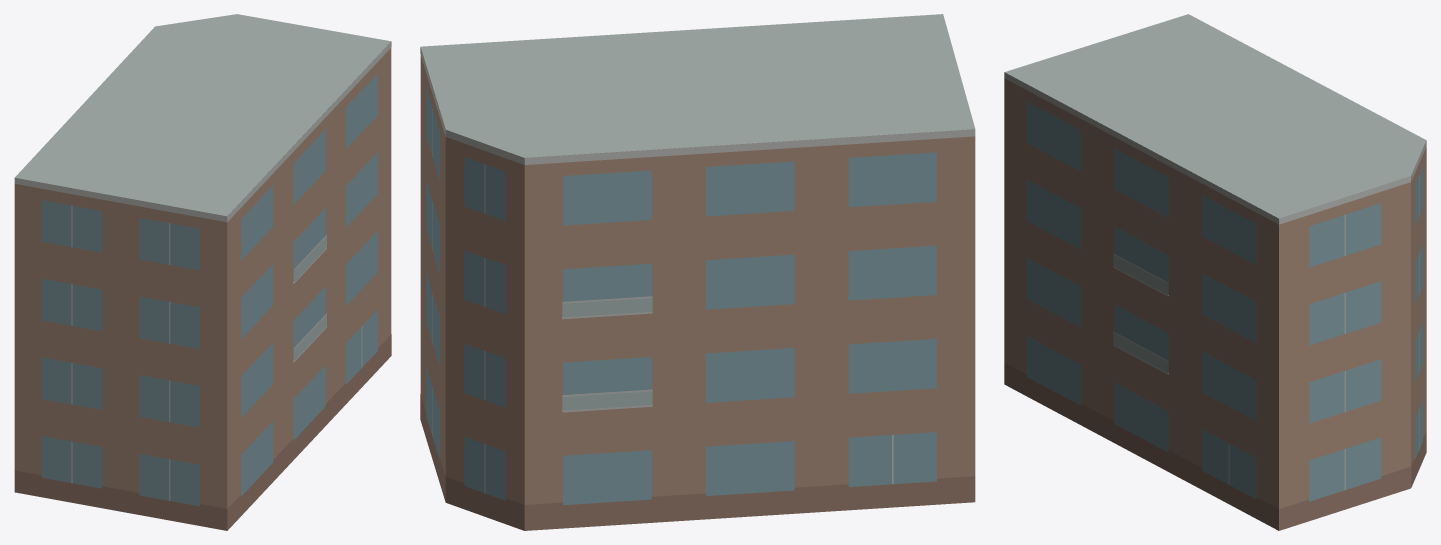
File: survey-upis-32956904.glb
3 renders of one model, left to right at view 1: azimuth 30°, elevation 25°; view 2: azimuth 150°, elevation 25°; view 3: azimuth 270°, elevation 25°, orthographic. The views are drawn at different scales.
Visible parts, largest first — view 1: survey-upis-32956904.tmp; view 2: survey-upis-32956904.tmp; view 3: survey-upis-32956904.tmp.
Part boxes in pixels (x1,y1,x2,y2): survey-upis-32956904.tmp: (14, 14, 391, 530); survey-upis-32956904.tmp: (420, 14, 975, 530); survey-upis-32956904.tmp: (1004, 14, 1426, 530).
Size of the model in its own units: 17.86 by 12.7 by 15.57.
